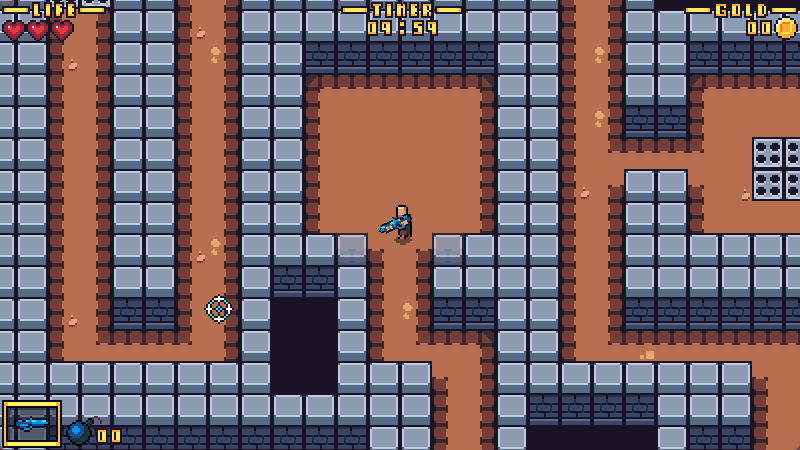aim: (205, 294, 233, 324)
bomb_counter_0: (66, 415, 122, 445)
gold_counter: (685, 1, 800, 38)
health: (2, 19, 77, 45)
player: (379, 204, 416, 245)
timer: (339, 1, 463, 37)
trap_off: (753, 138, 800, 202)
